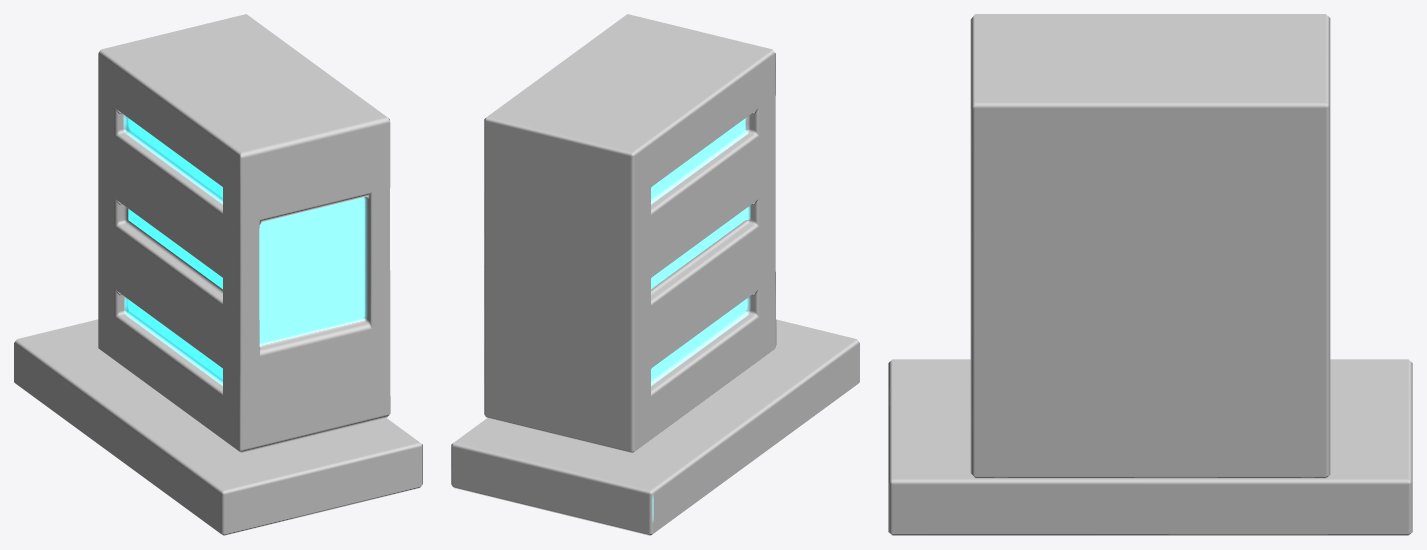
Rendered from SM_3DT_Wall_Prop_01.fbx.
The picture shows the model from 3 angles, left to right: view 1: azimuth 30°, elevation 25°; view 2: azimuth 150°, elevation 25°; view 3: azimuth 270°, elevation 25°; orthographic projection. The views are drawn at different scales.
Parts seen in each view (by area): view 1: SM_3DT_Wall_Prop_01; view 2: SM_3DT_Wall_Prop_01; view 3: SM_3DT_Wall_Prop_01.
Part boxes in pixels (left/top/right/bottom): SM_3DT_Wall_Prop_01: left=14, top=14, right=422, bottom=535; SM_3DT_Wall_Prop_01: left=451, top=14, right=859, bottom=535; SM_3DT_Wall_Prop_01: left=888, top=14, right=1412, bottom=535.
Size of the model in its own units: 26.86 by 44.02 by 48.26.
